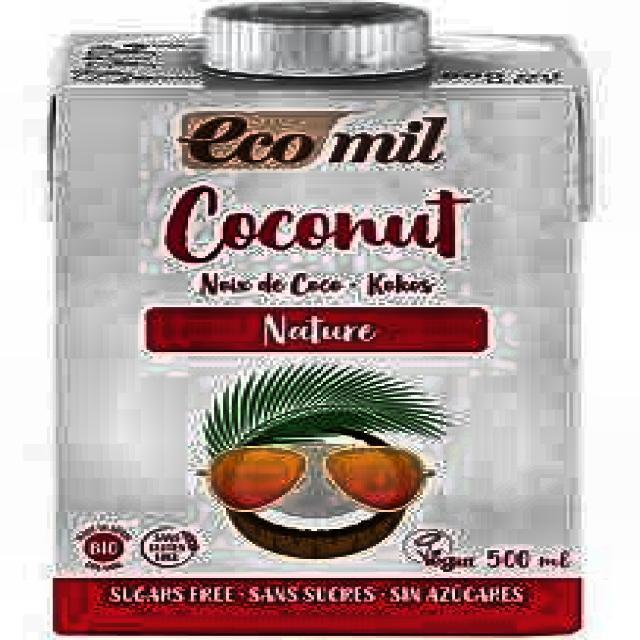cardboard: (47, 28, 590, 636)
